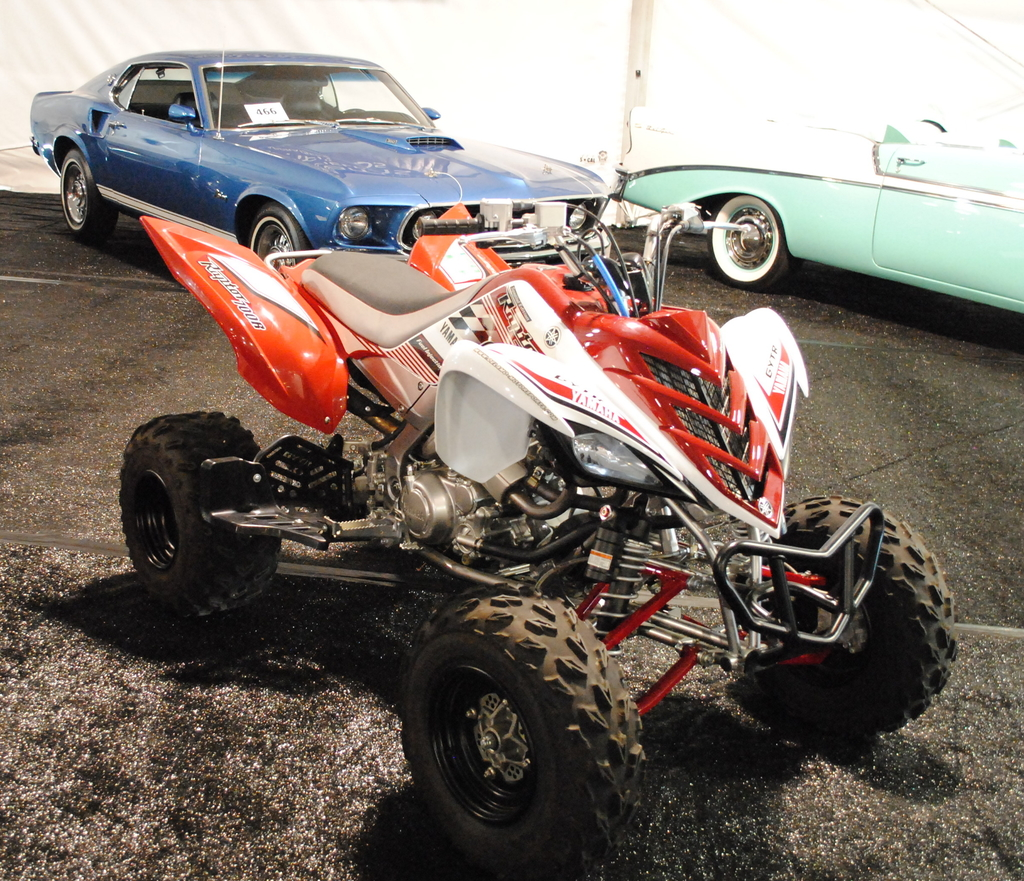Car: (30, 28, 611, 267), (616, 96, 1023, 323)
